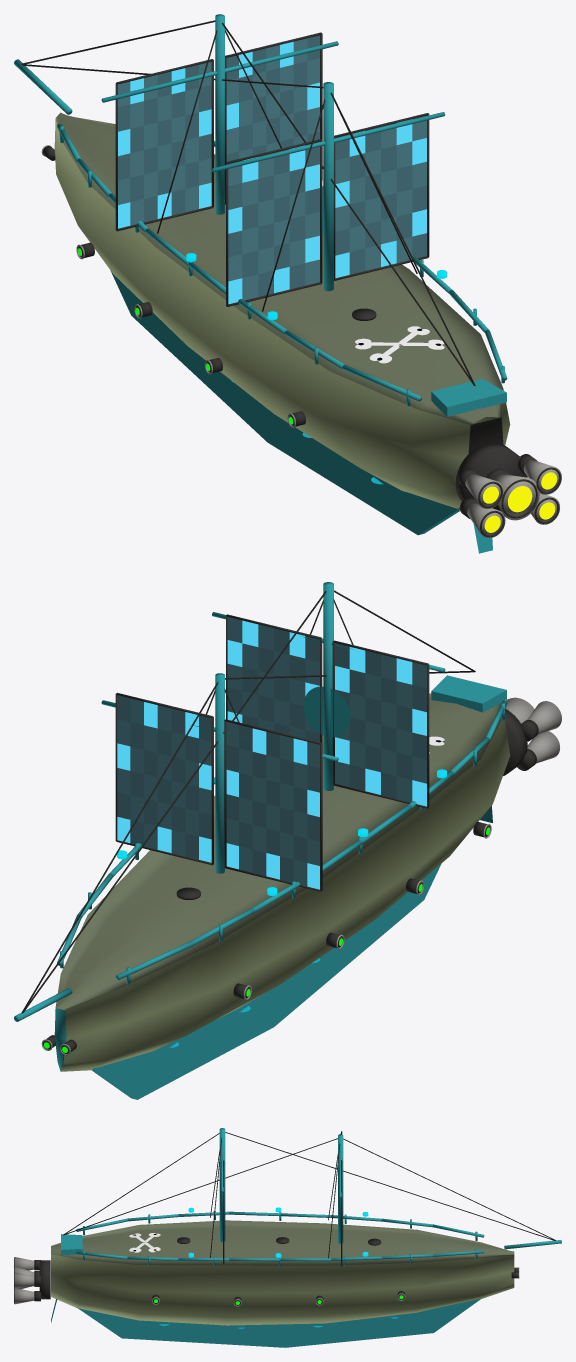
Rendered from Ship_Pirate_3.glb.
3 views of the same model, one above another, from view 1: azimuth 30°, elevation 25°; view 2: azimuth 150°, elevation 25°; view 3: azimuth 270°, elevation 25° (orthographic). The views are drawn at different scales.
Visible parts, largest first — view 1: Hull_MetalSailingShipBody, SolarPanelSail_Main_01_RigidHeritageArray, SolarPanelSail_Fore_01_RigidHeritageArray, Keel_DeepSpaceSailingKeel, Mast_Main_DarkMetalHeritageSpar, Mast_Fore_DarkMetalHeritageSpar, SternTransom_LowReinforcedAftDeckCap, EngineDeck_AftTransomArmoredMount, EngineEmitter, Yard_Fore_01_SolarPanelCrossSpar, Yard_Main_01_SolarPanelCrossSpar, EngineBell_Center_IronRocketNozzle (+2 smaller); view 2: Hull_MetalSailingShipBody, SolarPanelSail_Fore_01_RigidHeritageArray, SolarPanelSail_Main_01_RigidHeritageArray, Keel_DeepSpaceSailingKeel, Mast_Main_DarkMetalHeritageSpar, Mast_Fore_DarkMetalHeritageSpar, SternTransom_LowReinforcedAftDeckCap, Decal_Disc_SolarHeritagePanelMark, RiggingStay_Main_ForwardTautLine, EngineDeck_AftTransomArmoredMount, RiggingStay_Fore_ForwardTautLine, EngineBell_PortUpper_IronRocketNozzle (+1 smaller); view 3: Hull_MetalSailingShipBody, Keel_DeepSpaceSailingKeel, Mast_Main_DarkMetalHeritageSpar, Mast_Fore_DarkMetalHeritageSpar, RiggingStay_Main_ForwardTautLine, EngineDeck_AftTransomArmoredMount, SternTransom_LowReinforcedAftDeckCap, RiggingStay_Fore_AftTautLine, RiggingStay_Fore_ForwardTautLine.
Boxes of the visible parts, x1,y1,x2,y2 form: Hull_MetalSailingShipBody: (54, 112, 510, 510); SolarPanelSail_Main_01_RigidHeritageArray: (228, 115, 426, 304); SolarPanelSail_Fore_01_RigidHeritageArray: (118, 35, 319, 228); Keel_DeepSpaceSailingKeel: (110, 270, 459, 535); Mast_Main_DarkMetalHeritageSpar: (323, 82, 333, 291); Mast_Fore_DarkMetalHeritageSpar: (215, 14, 224, 214); SternTransom_LowReinforcedAftDeckCap: (431, 379, 506, 416); EngineDeck_AftTransomArmoredMount: (455, 443, 527, 510); EngineEmitter: (483, 472, 557, 532); Yard_Fore_01_SolarPanelCrossSpar: (101, 41, 338, 102); Yard_Main_01_SolarPanelCrossSpar: (212, 112, 445, 172); EngineBell_Center_IronRocketNozzle: (494, 474, 539, 520); Hull_MetalSailingShipBody: (54, 693, 510, 1071); SolarPanelSail_Fore_01_RigidHeritageArray: (117, 695, 319, 889); SolarPanelSail_Main_01_RigidHeritageArray: (227, 617, 426, 806); Keel_DeepSpaceSailingKeel: (91, 863, 441, 1099); Mast_Main_DarkMetalHeritageSpar: (323, 582, 333, 790); Mast_Fore_DarkMetalHeritageSpar: (215, 673, 224, 873); SternTransom_LowReinforcedAftDeckCap: (431, 675, 506, 712); Decal_Disc_SolarHeritagePanelMark: (303, 686, 350, 737); RiggingStay_Main_ForwardTautLine: (23, 591, 326, 1012); EngineDeck_AftTransomArmoredMount: (503, 708, 527, 775); RiggingStay_Fore_ForwardTautLine: (21, 682, 218, 1013); EngineBell_PortUpper_IronRocketNozzle: (527, 701, 561, 734); Hull_MetalSailingShipBody: (51, 1220, 514, 1325); Keel_DeepSpaceSailingKeel: (76, 1298, 481, 1347); Mast_Main_DarkMetalHeritageSpar: (219, 1128, 225, 1241); Mast_Fore_DarkMetalHeritageSpar: (338, 1134, 343, 1243); RiggingStay_Main_ForwardTautLine: (225, 1132, 555, 1240); EngineDeck_AftTransomArmoredMount: (39, 1260, 50, 1299); SternTransom_LowReinforcedAftDeckCap: (61, 1234, 82, 1255); RiggingStay_Fore_AftTautLine: (63, 1138, 337, 1235); RiggingStay_Fore_ForwardTautLine: (343, 1138, 556, 1240).
Bounding box in the file's own units: 2.1 × 3.42 × 7.81.
